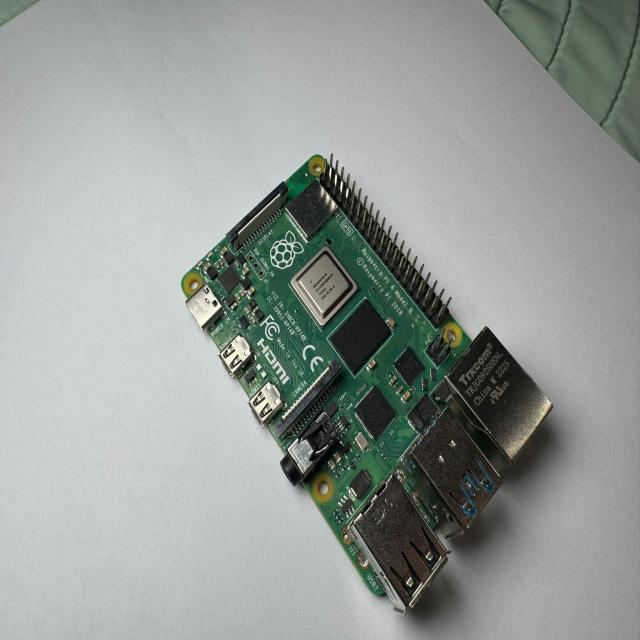CPU: (290, 243, 362, 329)
Ethernet: (427, 323, 556, 477)
GPIO: (318, 149, 453, 331)
RAM: (328, 298, 393, 374)
Raspberry: (178, 156, 553, 613)
micro-hdmi: (244, 380, 285, 431), (217, 331, 255, 382)
